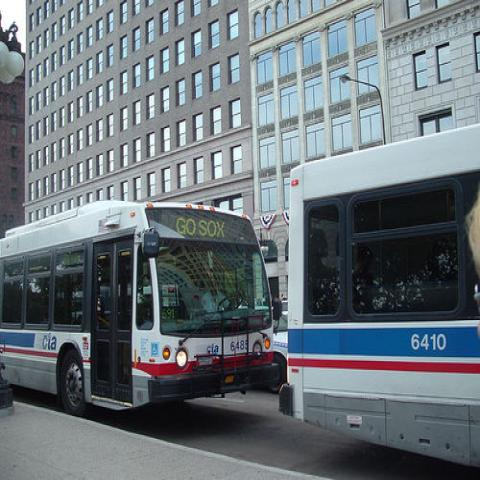bus: (284, 119, 478, 469), (0, 198, 279, 416)
